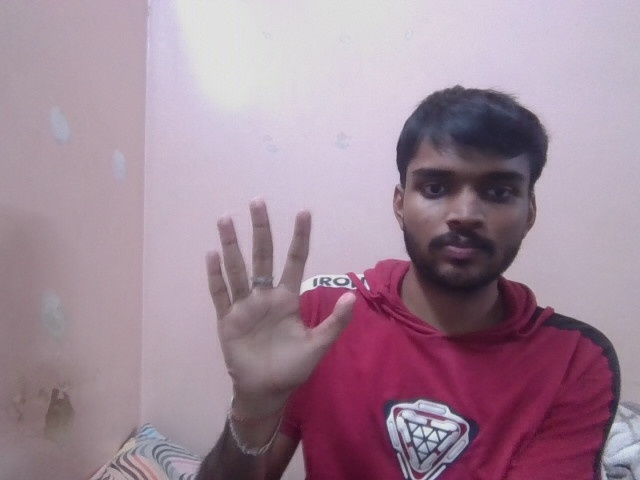Hello: (188, 197, 358, 393)
